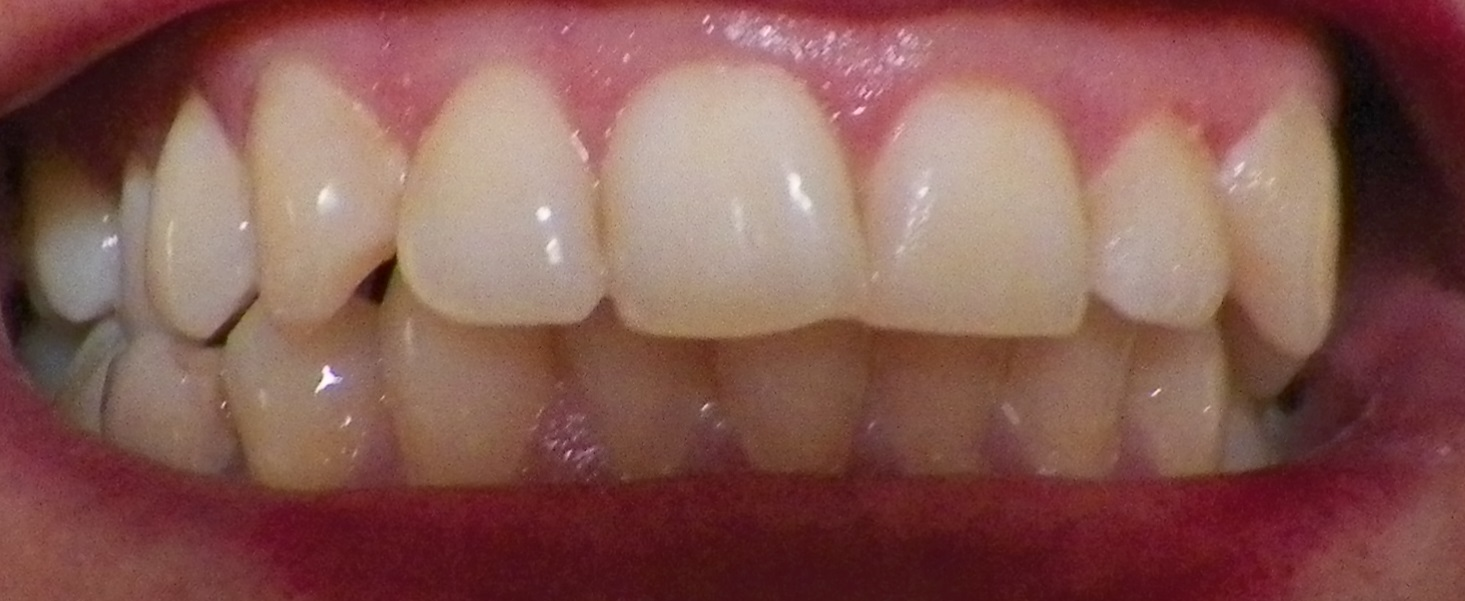boca: (28, 71, 1334, 501)
